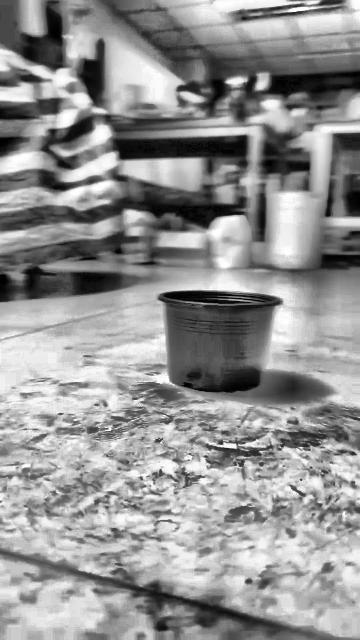pot: (158, 289, 281, 392)
